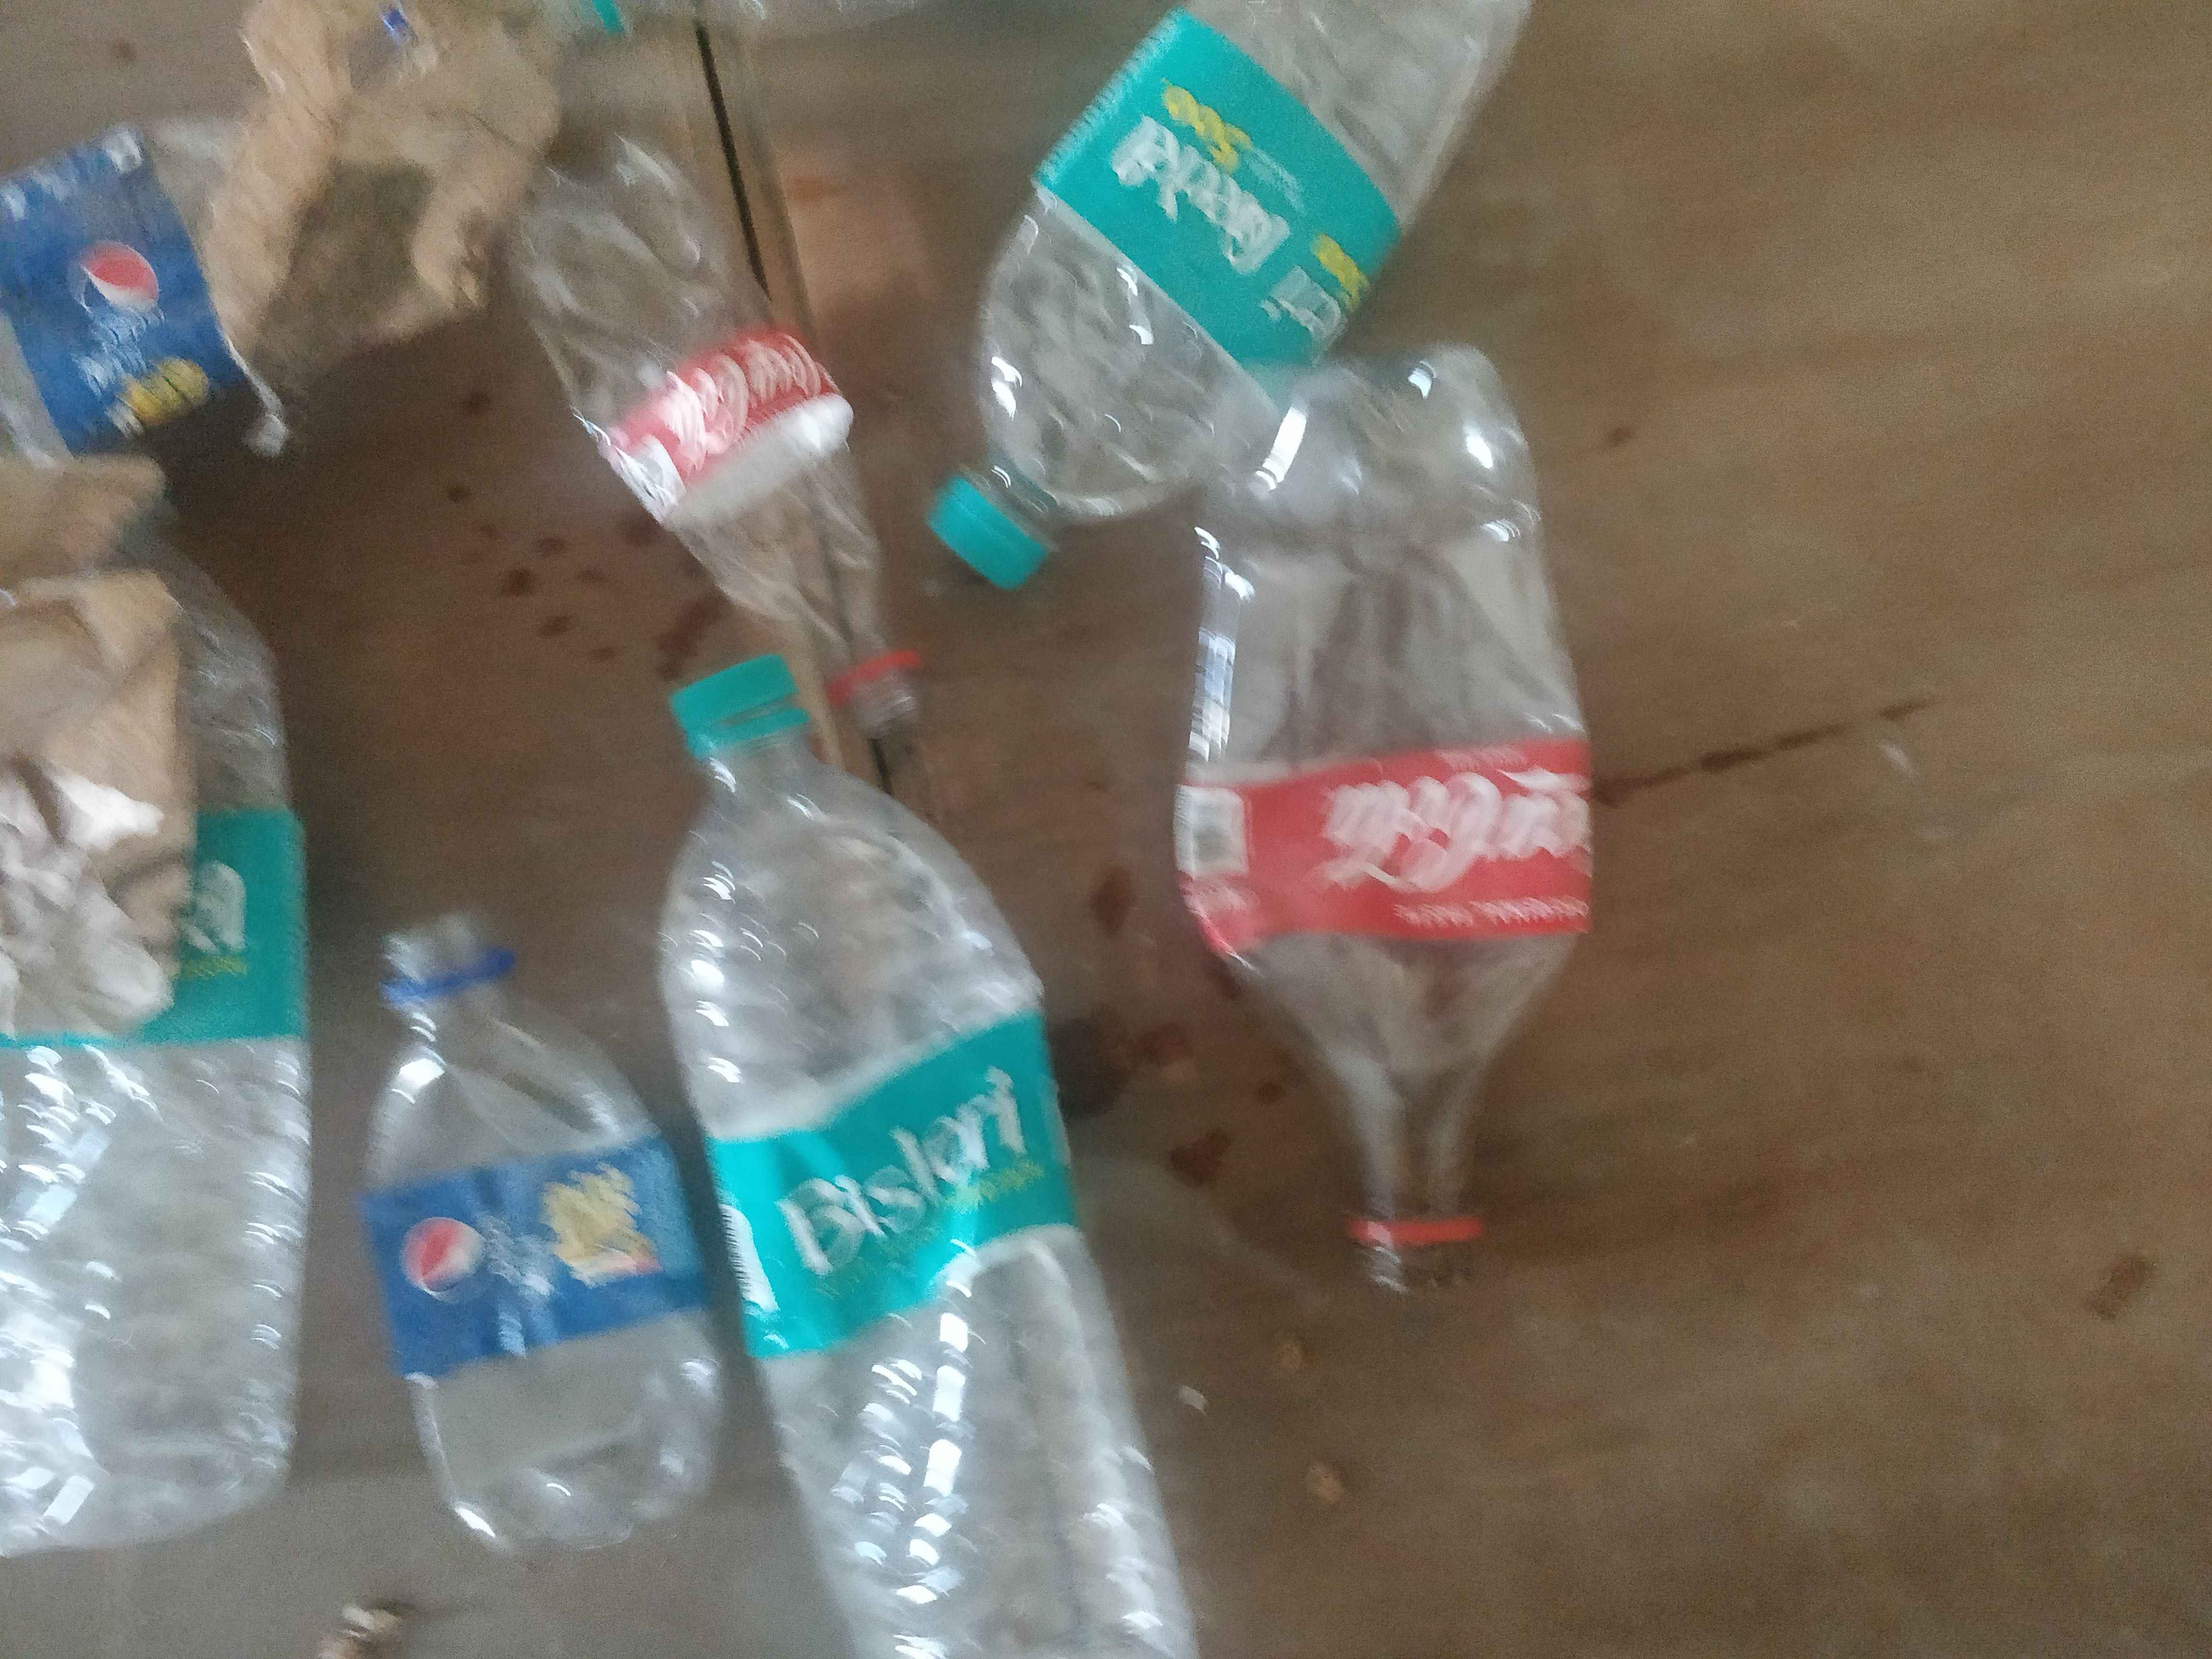Bisleri: (1090, 52, 1378, 336), (738, 1066, 1050, 1316), (132, 800, 322, 1033)
Coca-Cola: (1190, 775, 1597, 922), (637, 345, 840, 502)
pepsi: (30, 178, 254, 408), (383, 1175, 688, 1309)
